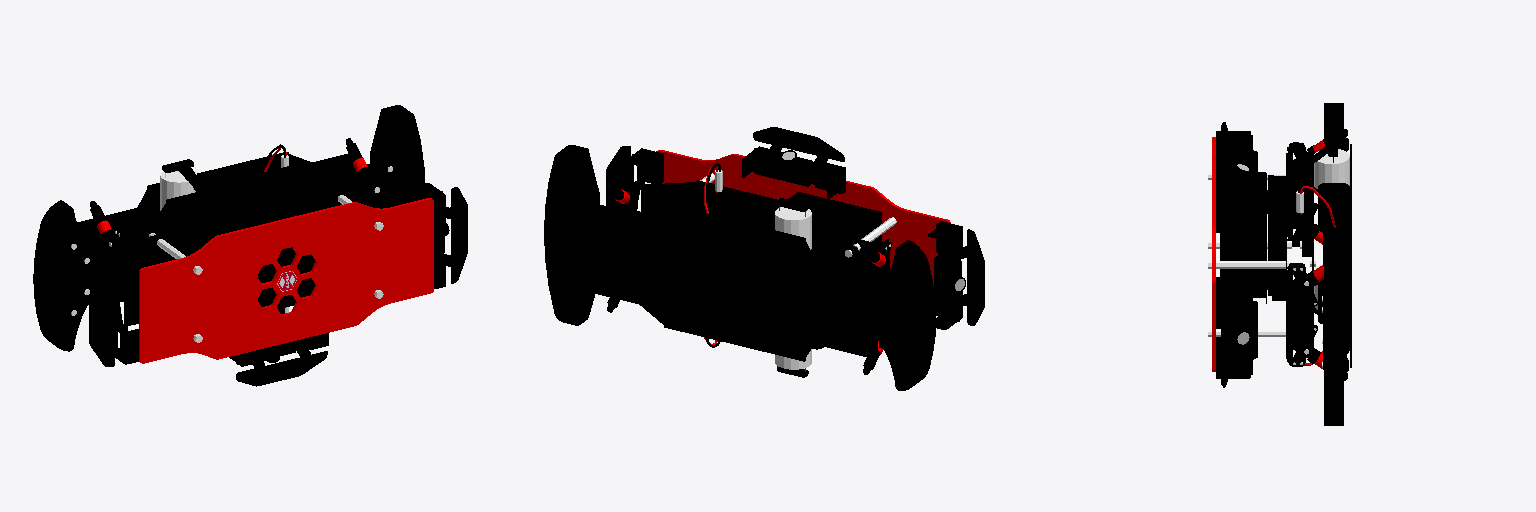
3 renders of one model, left to right at view 1: azimuth 30°, elevation 25°; view 2: azimuth 150°, elevation 25°; view 3: azimuth 270°, elevation 25°, orthographic.
Size of the model in its own units: 0.423 by 0.224 by 0.1383.
3 materials, 1 textured.